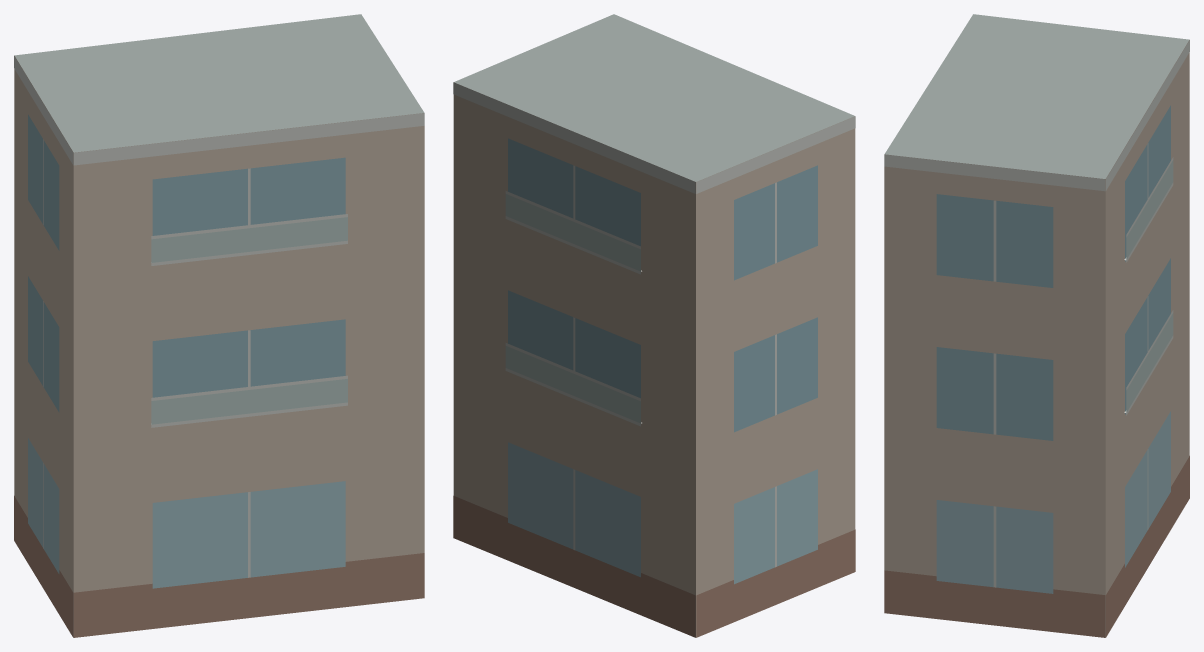
The model's file is survey-upis-33012557.glb.
The picture shows the model from 3 angles, left to right: view 1: azimuth 30°, elevation 25°; view 2: azimuth 150°, elevation 25°; view 3: azimuth 270°, elevation 25°; orthographic projection. The views are drawn at different scales.
Visible parts, largest first — view 1: survey-upis-33012557.tmp; view 2: survey-upis-33012557.tmp; view 3: survey-upis-33012557.tmp.
Part boxes in pixels (<box>): survey-upis-33012557.tmp: <box>14,14,424,637</box>; survey-upis-33012557.tmp: <box>453,14,855,637</box>; survey-upis-33012557.tmp: <box>884,14,1189,637</box>.
Bounding box in the file's own units: 7.07 × 9.15 × 5.53.
